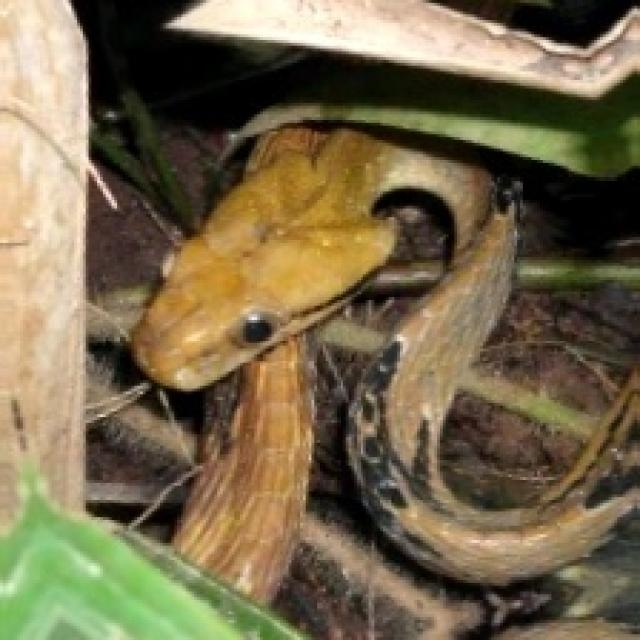dog-toothed cat snake: (131, 126, 637, 600)
